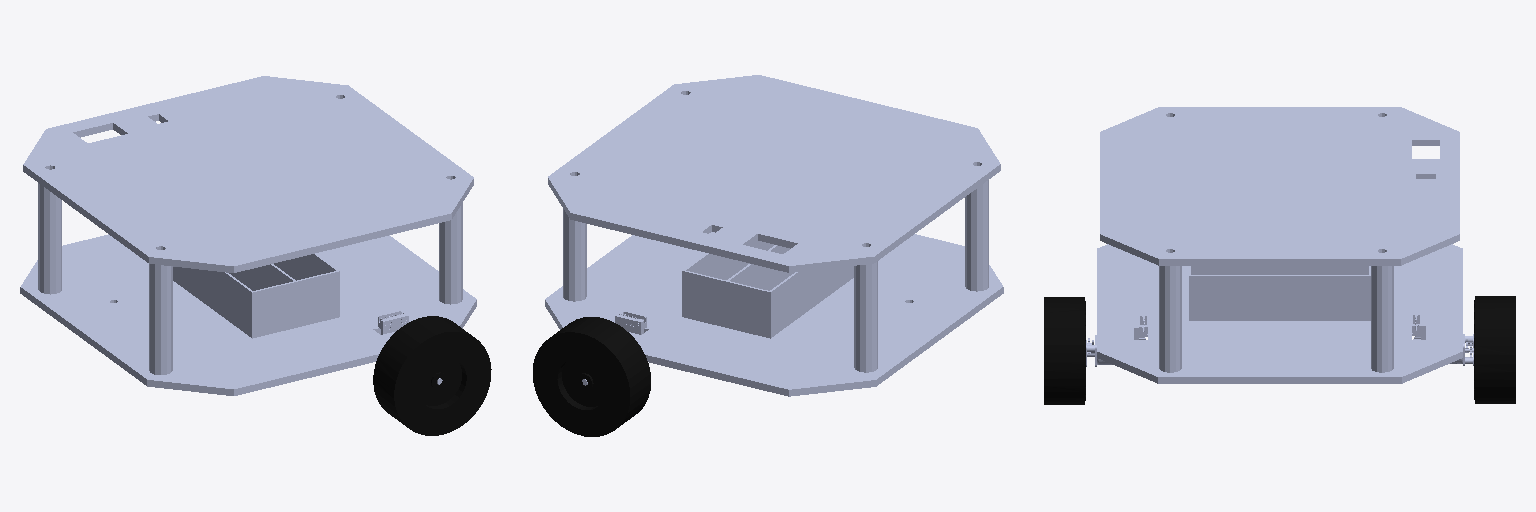
robot.urdf — autitorobotica:
<?xml version="1.0" encoding="utf-8"?>
<!-- This URDF was automatically created by SolidWorks to URDF Exporter! Originally created by Stephen Brawner (brawner@gmail.com) 
     Commit Version: 1.6.0-4-g7f85cfe  Build Version: 1.6.7995.38578
     For more information, please see http://wiki.ros.org/sw_urdf_exporter -->
<robot
  name="autitorobotica">
  <link name="base_link" />
  
  <joint name="base_link_to_chassis" type="fixed">
    <parent link="base_link" />
    <child link="chassis_link" />
    <origin xyz="0.07997 0.968 0.00289" rpy="0 0 -1.5708" />
  </joint>

  <link
    name="chassis_link">
    <inertial>
      <origin
        xyz="-0.0798313842300624 0.0275756681083799 0.998760145382003"
        rpy="0 0 0" />
      <mass
        value="0.150728208818651" />
      <inertia
        ixx="0.000359632969161981"
        ixy="-1.31491534012978E-06"
        ixz="-1.33263057894596E-06"
        iyy="0.000505024330390442"
        iyz="9.28780308596565E-07"
        izz="0.000331133205870069" />
    </inertial>
    <visual>
      <origin
        xyz="0 0 0"
        rpy="0 0 0" />
      <geometry>
        <mesh
          filename="package://my_robot_viz/meshes/base_link.STL" />
      </geometry>
      <material
        name="">
        <color
          rgba="0.792156862745098 0.819607843137255 0.933333333333333 1" />
      </material>
    </visual>
    <collision>
      <origin
        xyz="0 0 0"
        rpy="0 0 0" />
      <geometry>
        <mesh
          filename="package://my_robot_viz/meshes/base_link.STL" />
      </geometry>
    </collision>
  </link>
  <link
    name="B">
    <inertial>
      <origin
        xyz="0.00817198618715925 -3.25910288978548E-07 8.32704526998462E-08"
        rpy="0 0 0" />
      <mass
        value="0.0203591144300768" />
      <inertia
        ixx="6.0382447247265E-06"
        ixy="1.3799957889287E-11"
        ixz="1.4361898977662E-11"
        iyy="3.48959072554672E-06"
        iyz="-2.55988965126951E-12"
        izz="3.48963032767679E-06" />
    </inertial>
    <visual>
      <origin
        xyz="0 0 0"
        rpy="0 0 0" />
      <geometry>
        <mesh
          filename="package://my_robot_viz/meshes/B.STL" />
      </geometry>
      <material
        name="">
        <color
          rgba="0.0980392156862745 0.0980392156862745 0.0980392156862745 1" />
      </material>
    </visual>
    <collision>
      <origin
        xyz="0 0 0"
        rpy="0 0 0" />
      <geometry>
        <mesh
          filename="package://my_robot_viz/meshes/B.STL" />
      </geometry>
    </collision>
  </link>
  <joint
    name="B"
    type="continuous">
    <origin
      xyz="0 -0.96749 -0.0028915"
      rpy="-2.6655 0 0" />
    <parent
      link="chassis_link" />
    <child
      link="B" />
    <axis
      xyz="1 0 0" />
  </joint>
  <link
    name="A">
    <inertial>
      <origin
        xyz="0.00874953696141806 -3.25910288645481E-07 8.32704526998462E-08"
        rpy="0 0 0" />
      <mass
        value="0.0203591144300767" />
      <inertia
        ixx="6.03824472472648E-06"
        ixy="1.3799957892447E-11"
        ixz="1.43618989709502E-11"
        iyy="3.48959072554669E-06"
        iyz="-2.55988965836341E-12"
        izz="3.48963032767675E-06" />
    </inertial>
    <visual>
      <origin
        xyz="0 0 0"
        rpy="0 0 0" />
      <geometry>
        <mesh
          filename="package://my_robot_viz/meshes/A.STL" />
      </geometry>
      <material
        name="">
        <color
          rgba="0.0980392156862745 0.0980392156862745 0.0980392156862745 1" />
      </material>
    </visual>
    <collision>
      <origin
        xyz="0 0 0"
        rpy="0 0 0" />
      <geometry>
        <mesh
          filename="package://my_robot_viz/meshes/A.STL" />
      </geometry>
    </collision>
  </link>
  <joint
    name="A"
    type="continuous">
    <origin
      xyz="-0.15994 -0.96851 -0.0028915"
      rpy="0.39616 0 -3.1416" />
    <parent
      link="chassis_link" />
    <child
      link="A" />
    <axis
      xyz="1 0 0" />
  </joint>
</robot>

--- Facts derived from the render (not from the file) ---
Views: 3 orthographic renders of the robot side by side, from view 1: azimuth 30°, elevation 25°; view 2: azimuth 150°, elevation 25°; view 3: azimuth 270°, elevation 25°.
Model autitorobotica with 4 links and 3 joints (2 continuous, 1 fixed), rooted at base_link, posed every joint at zero.
Visible links, largest first — view 1: chassis_link, B; view 2: chassis_link, A; view 3: chassis_link, B, A.
Boxes of the visible links, <box> form: chassis_link: <box>20,76,476,395</box>; B: <box>373,316,491,435</box>; chassis_link: <box>545,75,1003,396</box>; A: <box>533,317,650,436</box>; chassis_link: <box>1086,107,1473,383</box>; B: <box>1044,297,1085,404</box>; A: <box>1474,296,1515,403</box>.
Size in the robot's own frame: 0.15 by 0.1934 by 0.0832 metres.
3 mesh visuals loaded from 3 distinct referenced files (3 binary STL).
